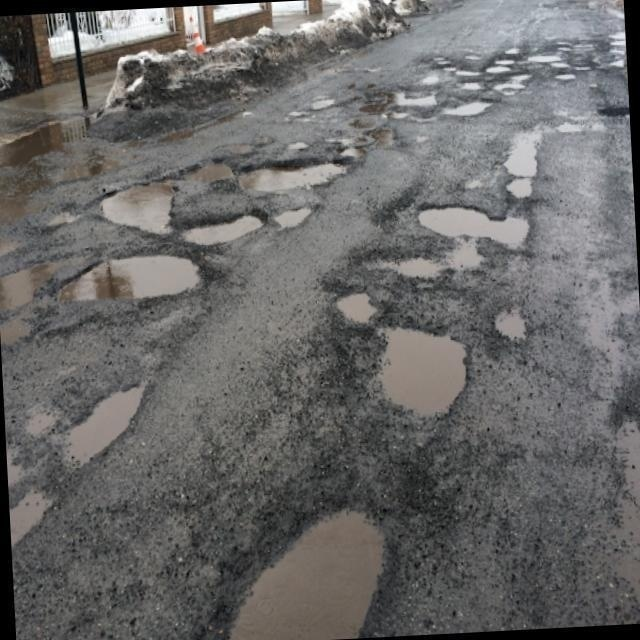pothole: (206, 483, 394, 640), (103, 151, 349, 240), (331, 283, 471, 420), (418, 37, 603, 114), (64, 247, 198, 317), (64, 372, 140, 462), (417, 191, 528, 250), (494, 298, 537, 356)
